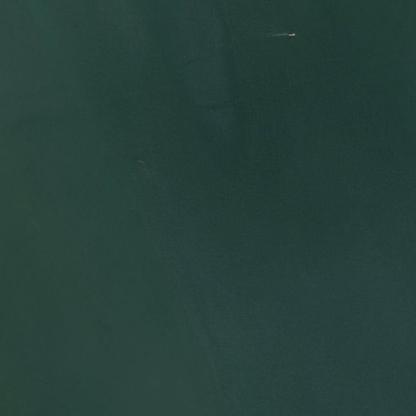ship: (288, 33, 294, 35)
